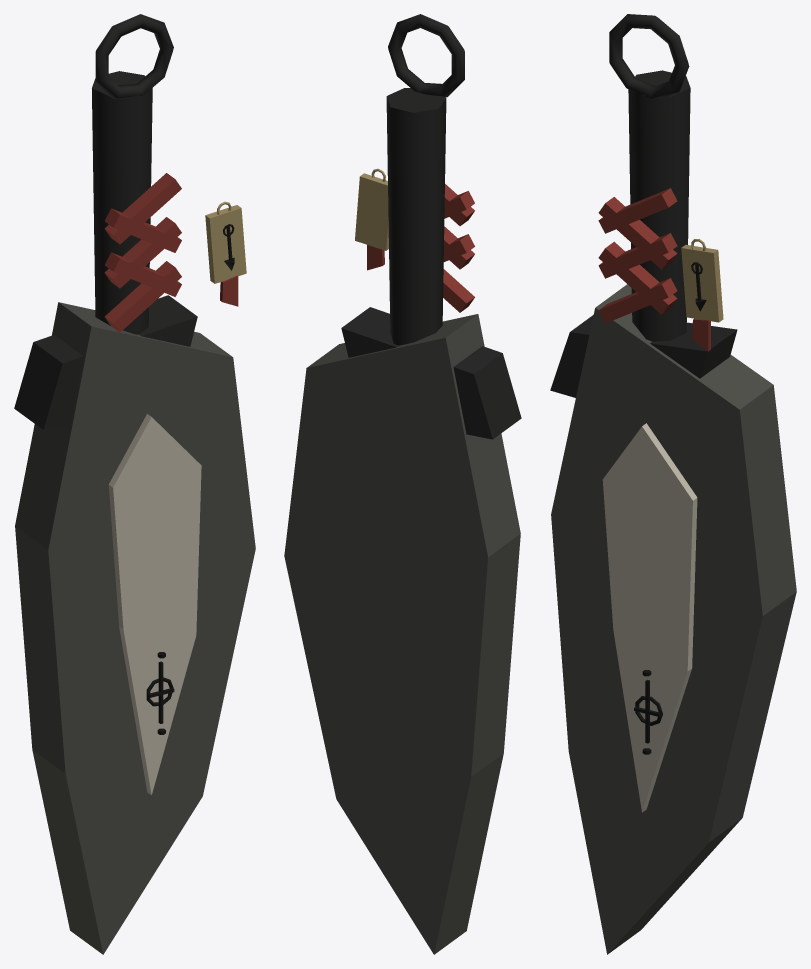
Rendered from fantasy-faceted-falchion-v1.glb.
3 views of the same model, side by side, from view 1: azimuth 30°, elevation 25°; view 2: azimuth 150°, elevation 25°; view 3: azimuth 330°, elevation 25° (orthographic). The views are drawn at different scales.
Visible parts, largest first — view 1: Falchion; view 2: Falchion; view 3: Falchion.
Boxes of the visible parts, box(x1,y1,x2,y2) form: Falchion: box(14, 14, 255, 954); Falchion: box(284, 14, 521, 954); Falchion: box(550, 14, 796, 954).
Bounding box in the file's own units: 1.24 × 5.22 × 0.5669.
